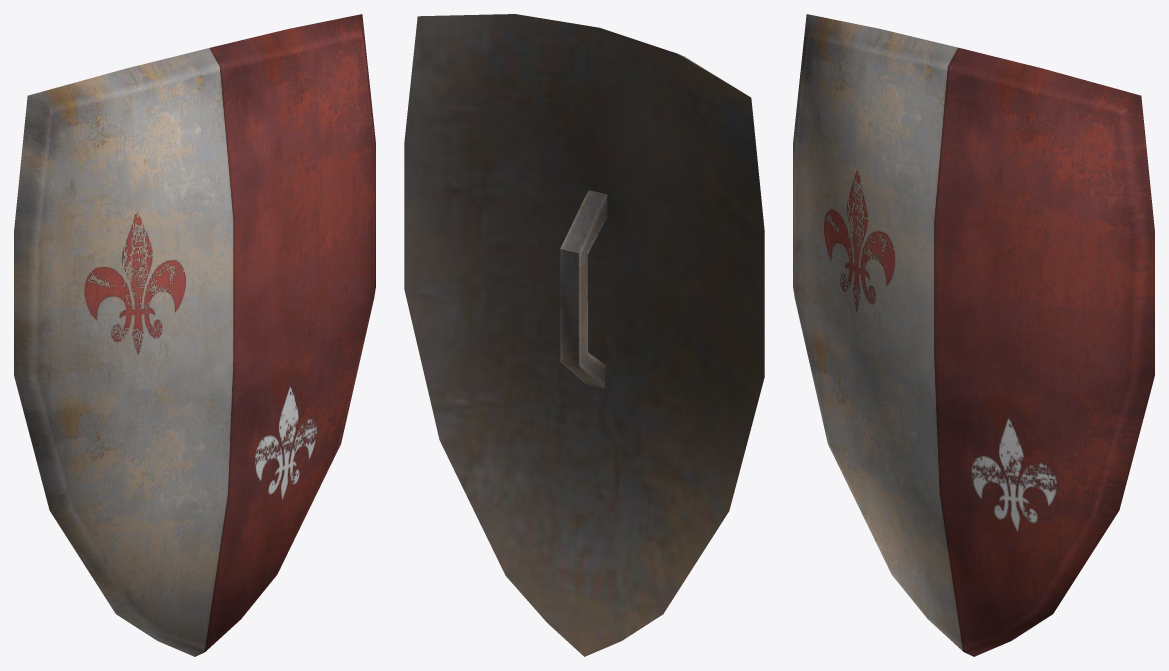
File: weapons_shield01.glb
3 views of the same model, side by side, from view 1: azimuth 30°, elevation 25°; view 2: azimuth 150°, elevation 25°; view 3: azimuth 330°, elevation 25° (orthographic).
Parts seen in each view (by area): view 1: shield01; view 2: shield01; view 3: shield01.
Part boxes in pixels (x1,y1,x2,y2): shield01: (14,14,375,656); shield01: (404,14,764,656); shield01: (793,14,1154,656).
Size of the model in its own units: 0.4274 by 0.7002 by 0.0959.
Materials: 1 (1 with a texture image).
